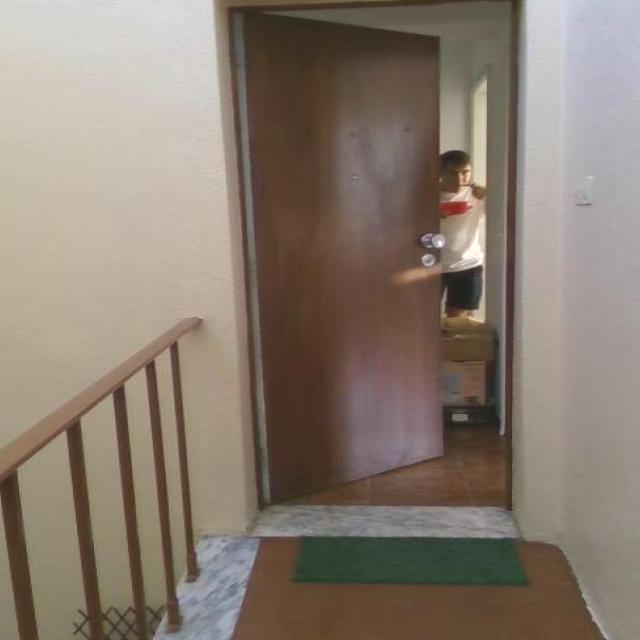door: (234, 11, 447, 504)
